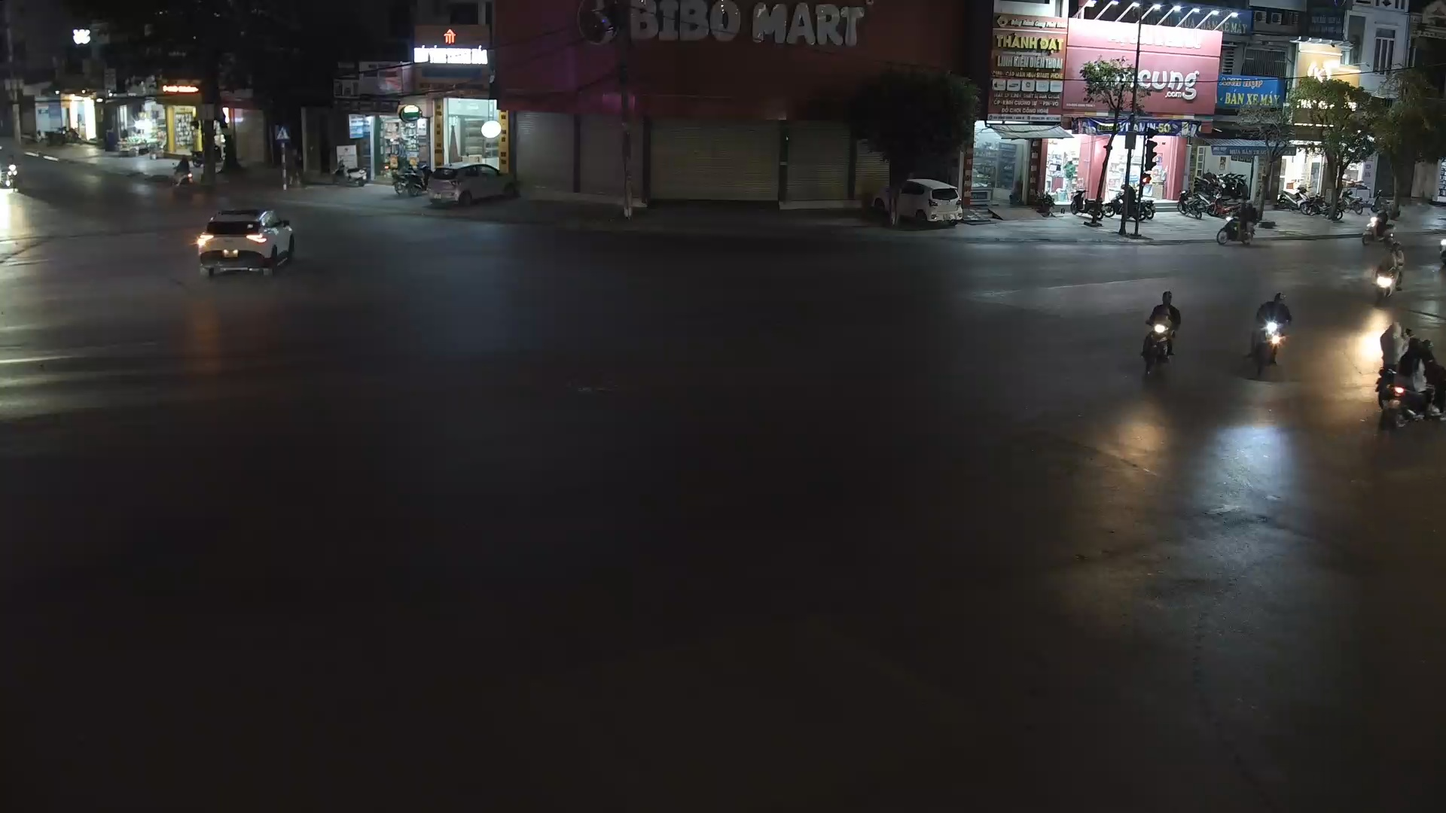car: (196, 203, 296, 279), (425, 158, 521, 210)
motorbike: (1373, 329, 1445, 434), (1244, 287, 1295, 379), (1140, 288, 1184, 381), (1370, 239, 1406, 305)
